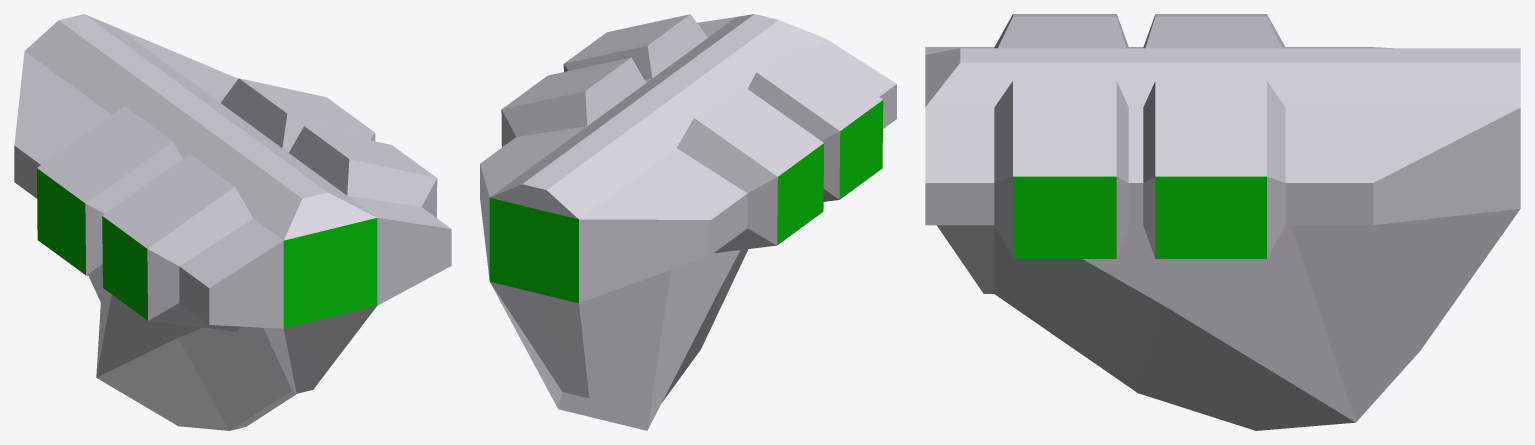
File: double-block.001.fbx
The picture shows the model from 3 angles, left to right: view 1: azimuth 30°, elevation 25°; view 2: azimuth 150°, elevation 25°; view 3: azimuth 270°, elevation 25°; orthographic projection. The views are drawn at different scales.
Parts seen in each view (by area): view 1: double-block.001; view 2: double-block.001; view 3: double-block.001.
Part boxes in pixels (bbox=[...]): double-block.001: bbox=[14, 14, 451, 430]; double-block.001: bbox=[480, 14, 896, 430]; double-block.001: bbox=[925, 14, 1520, 430].
Size of the model in its own units: 3.26 by 3.53 by 5.04.
